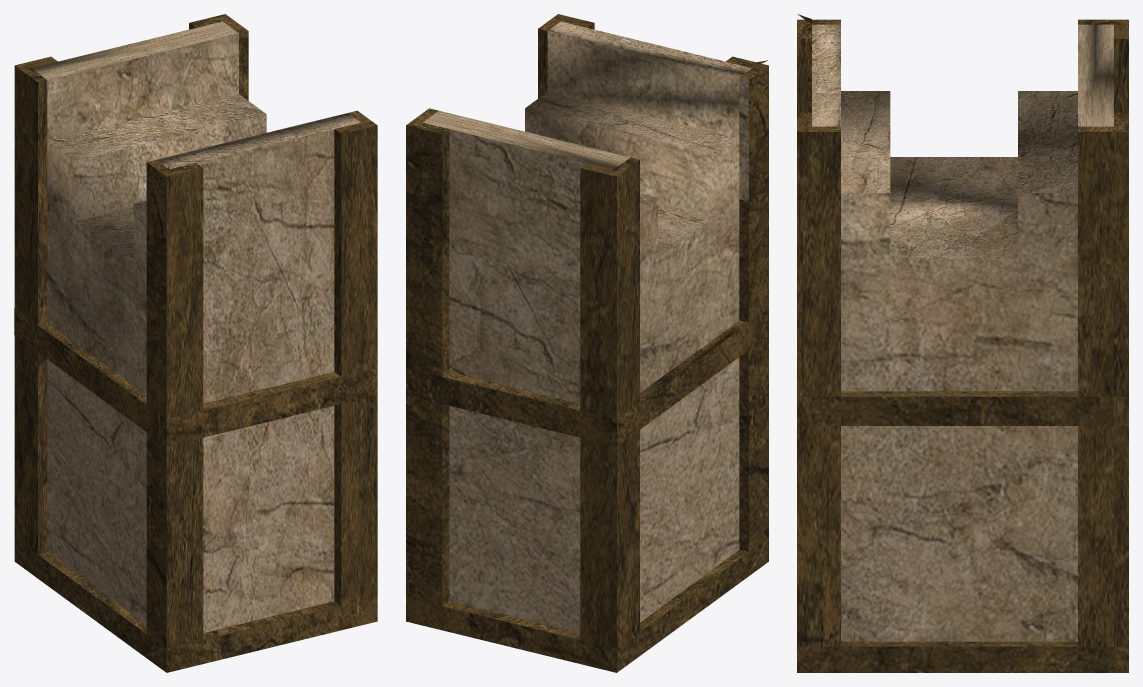
Rendered from Yamato_wall_tower_onConstruction.fbx.
3 renders of one model, left to right at view 1: azimuth 30°, elevation 25°; view 2: azimuth 150°, elevation 25°; view 3: azimuth 270°, elevation 25°, orthographic. The views are drawn at different scales.
Parts seen in each view (by area): view 1: Cube.002; view 2: Cube.002; view 3: Cube.002.
Boxes of the visible parts, box(x1,y1,x2,y2) form: Cube.002: box(14, 14, 377, 672); Cube.002: box(406, 14, 768, 672); Cube.002: box(797, 14, 1128, 672).
Bounding box in the file's own units: 220 × 500 × 275.
1 material, 1 textured.
